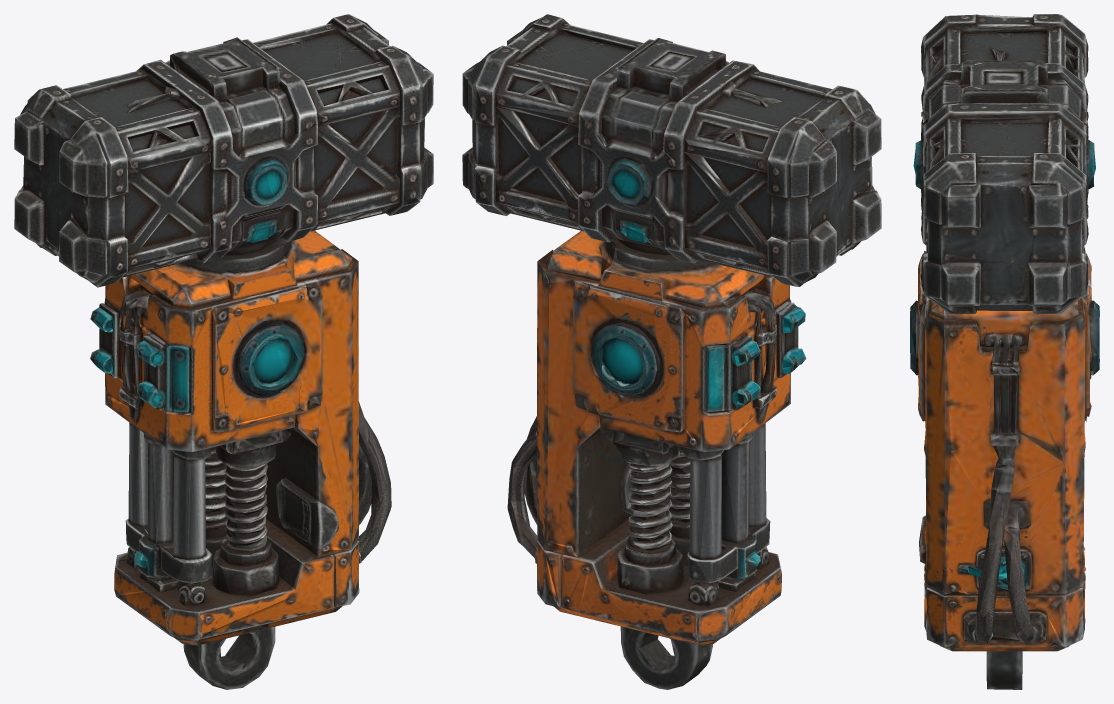
The model's file is hammer.glb.
The picture shows the model from 3 angles, left to right: view 1: azimuth 30°, elevation 25°; view 2: azimuth 150°, elevation 25°; view 3: azimuth 270°, elevation 25°; orthographic projection. The views are drawn at different scales.
Visible parts, largest first — view 1: Mesh_0; view 2: Mesh_0; view 3: Mesh_0.
Part boxes in pixels (x1,y1,x2,y2): Mesh_0: [14, 14, 433, 689]; Mesh_0: [462, 14, 881, 689]; Mesh_0: [910, 14, 1099, 689].
Size of the model in its own units: 0.9661 by 1.6 by 0.4517.
1 material, 1 textured.
